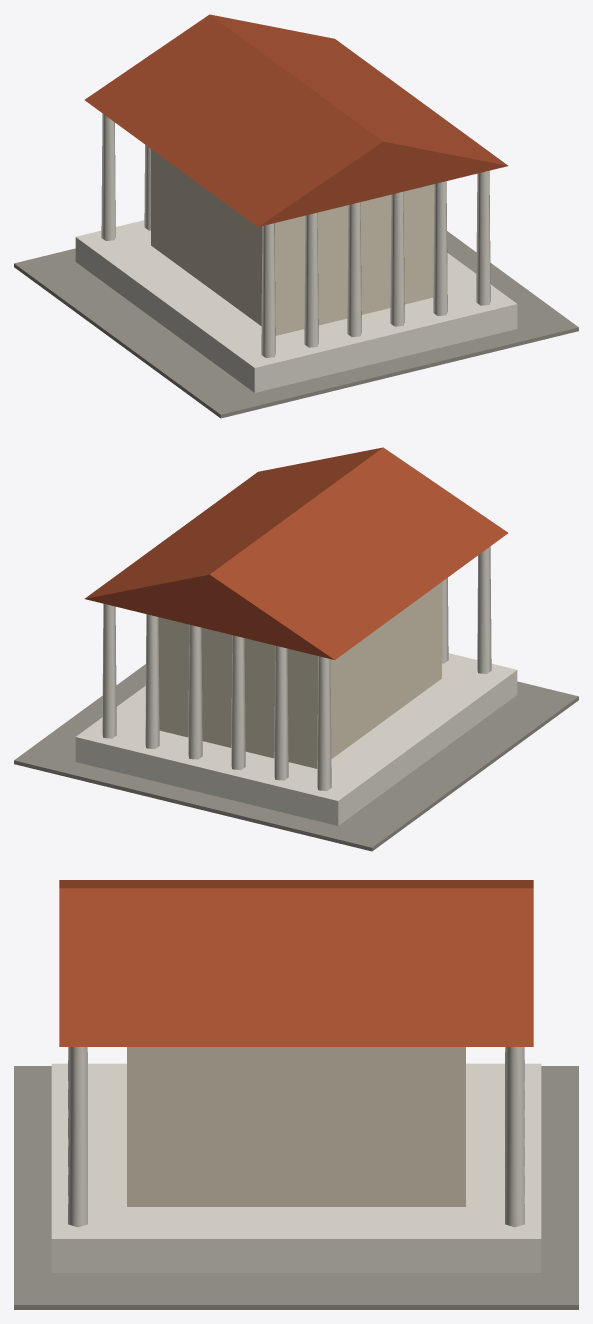
File: bld_special_temple_a02_lod2.glb
3 views of the same model, one above another, from view 1: azimuth 30°, elevation 25°; view 2: azimuth 150°, elevation 25°; view 3: azimuth 270°, elevation 25° (orthographic). The views are drawn at different scales.
Visible parts, largest first — view 1: body; view 2: body; view 3: body.
Boxes of the visible parts, box(x1,y1,x2,y2) form: body: box(14, 14, 578, 418); body: box(14, 447, 578, 851); body: box(14, 880, 578, 1309).
Size of the model in its own units: 15 by 8.85 by 15.
